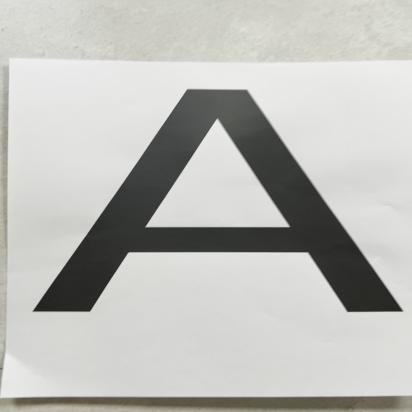seat: (34, 65, 412, 348)
